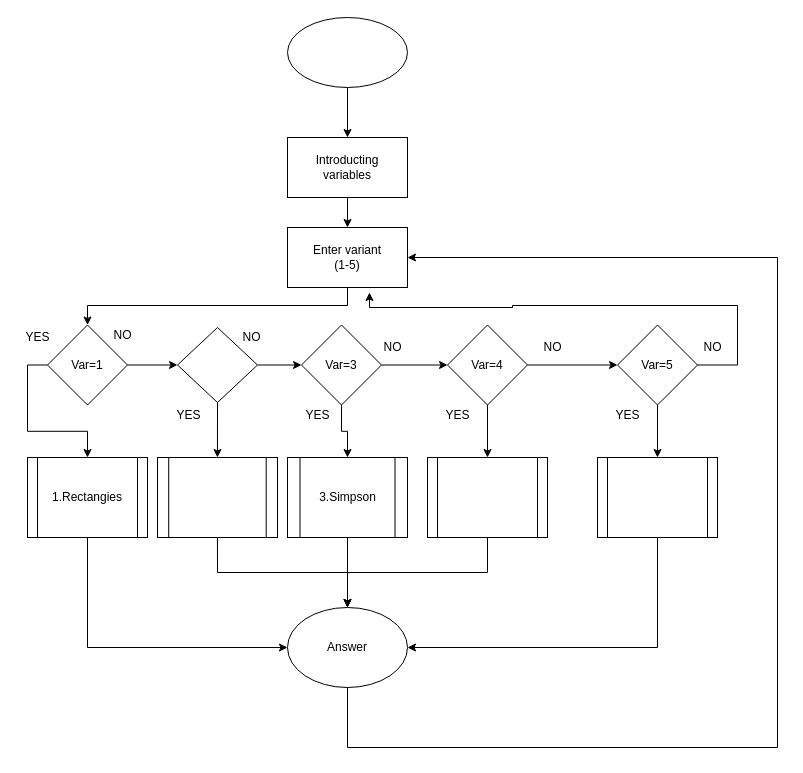
This 803x773 diagram has some shape labels left out. The shapes that lost their labels are listed below. From the top down, each one's box as (x1, y1, x2, y2) in pixels, then its label:
(286, 16, 408, 88): Start
(176, 326, 258, 402): Var=2
(168, 456, 266, 538): 2.Trapezium
(436, 456, 538, 538): 4.Usual
(606, 456, 708, 538): 5.Demo version (y=x^3)
